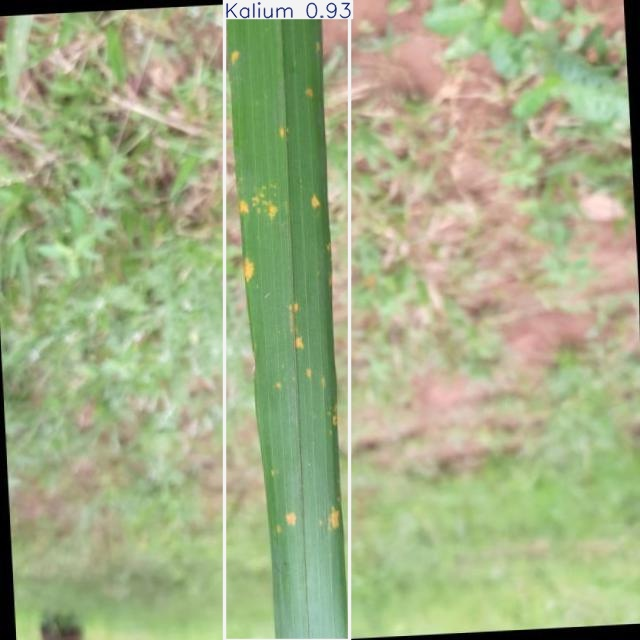Kalium: (224, 1, 350, 640)
